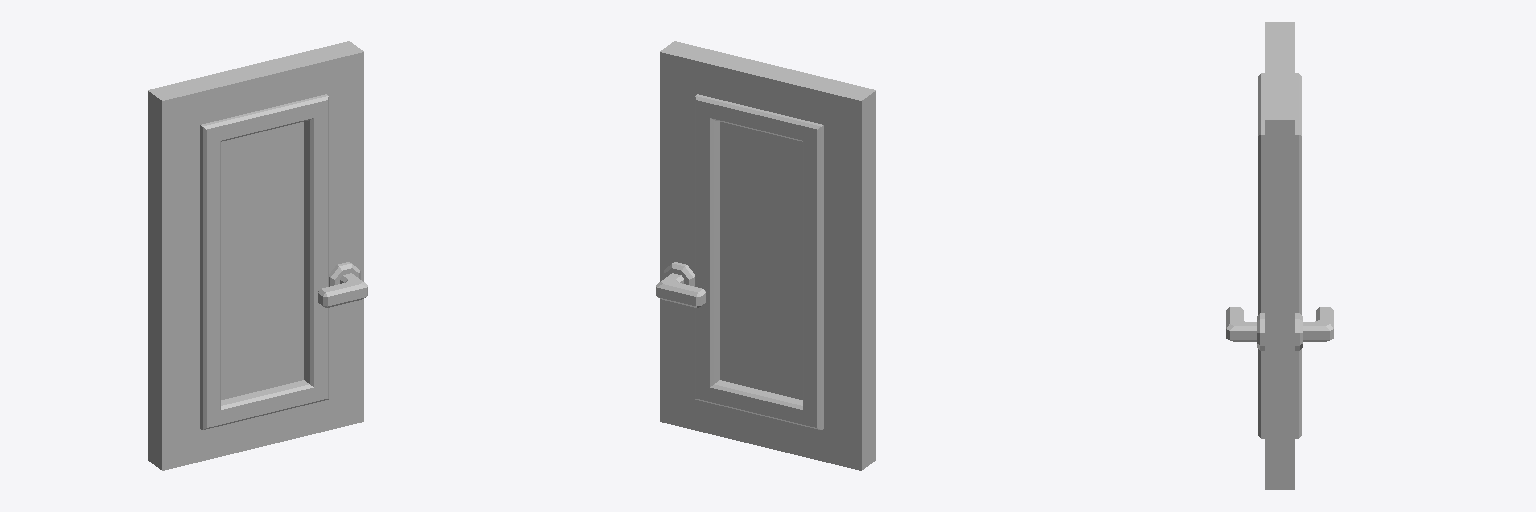
Rendered from wall_panelled_bakery_doorway_wall_panelled_bakery_door.obj.
The picture shows the model from 3 angles: view 1: azimuth 30°, elevation 25°; view 2: azimuth 150°, elevation 25°; view 3: azimuth 270°, elevation 25°; orthographic projection.
Parts seen in each view (by area): view 1: wall_panelled_bakery_door; view 2: wall_panelled_bakery_door; view 3: wall_panelled_bakery_door.
Boxes of the visible parts, x1=… form: wall_panelled_bakery_door: x1=148, y1=41, x2=367, y2=470; wall_panelled_bakery_door: x1=656, y1=41, x2=875, y2=470; wall_panelled_bakery_door: x1=1226, y1=22, x2=1333, y2=489.
Bounding box in the file's own units: 1.6 × 2.8 × 0.74.